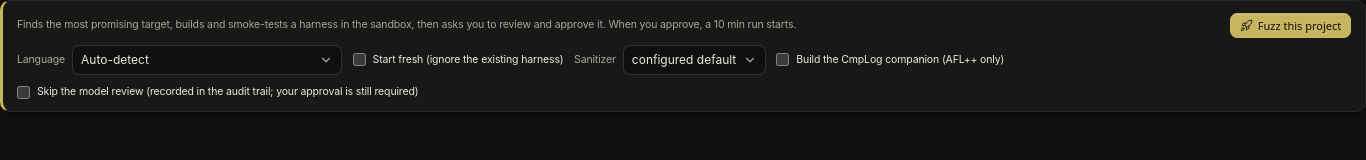
Test: prepares, stops at approval, and starts one run only after that harness is approved
Later steps or results of the test are not shown.
Click the button "Fuzz this project".
click(1290, 25)  # box [1230,13,1351,38]
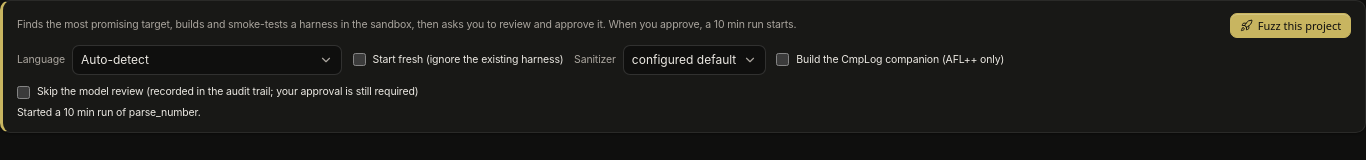
Now the text "Started a 10 min run of parse_number" is shown, box [17,106,201,119]
